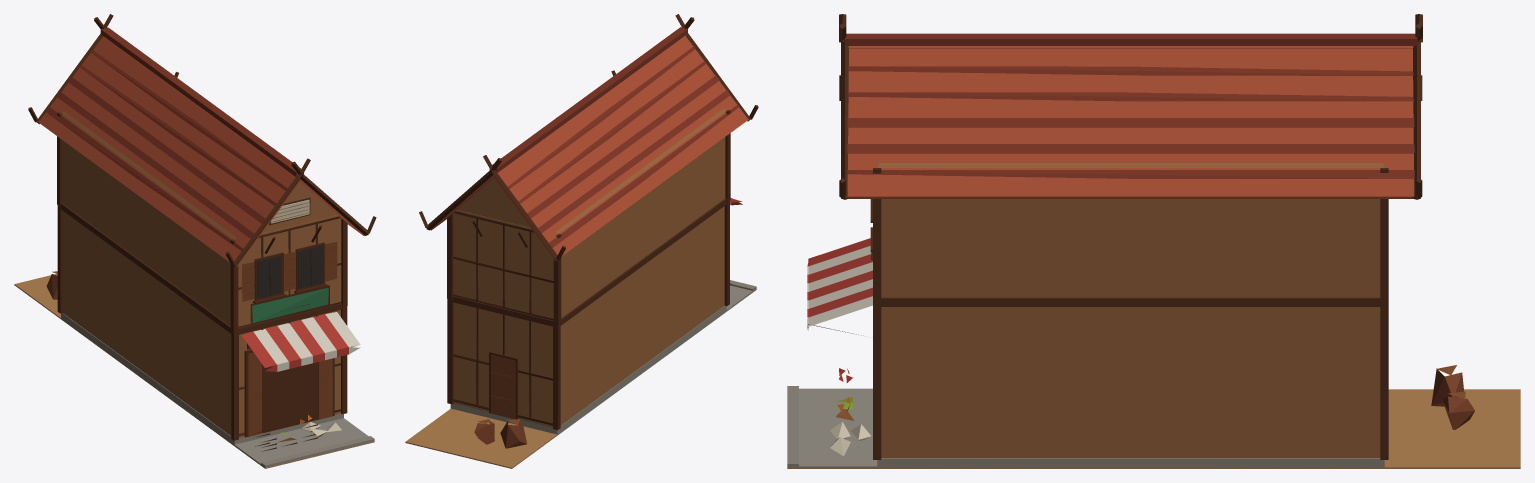
Rendered from bay1_mid2.glb.
3 renders of one model, left to right at view 1: azimuth 30°, elevation 25°; view 2: azimuth 150°, elevation 25°; view 3: azimuth 270°, elevation 25°, orthographic. The views are drawn at different scales.
Parts seen in each view (by area): view 1: body, windows; view 2: body; view 3: body.
Part boxes in pixels (bbox=[...]): body: bbox=[14, 14, 376, 468]; windows: bbox=[257, 245, 323, 298]; body: bbox=[405, 14, 758, 468]; body: bbox=[787, 14, 1520, 468].
Size of the model in its own units: 5.52 by 9.86 by 15.9.
